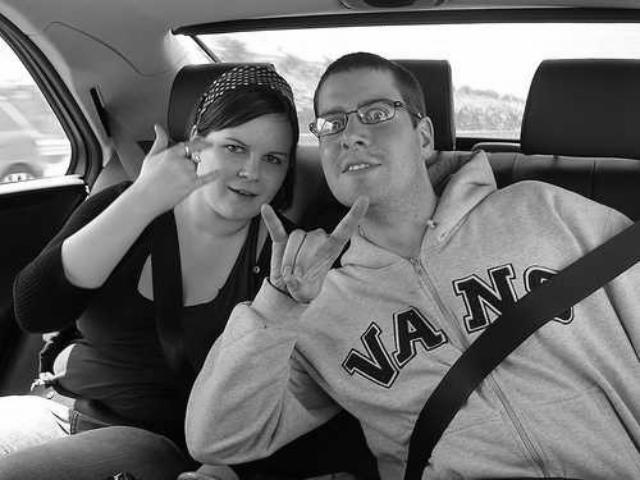SafeDriving: (0, 162, 38, 189), (360, 103, 392, 126), (217, 138, 250, 157), (318, 114, 348, 134), (258, 150, 291, 168)
Seatbelt: (398, 216, 640, 480), (98, 92, 194, 371)
